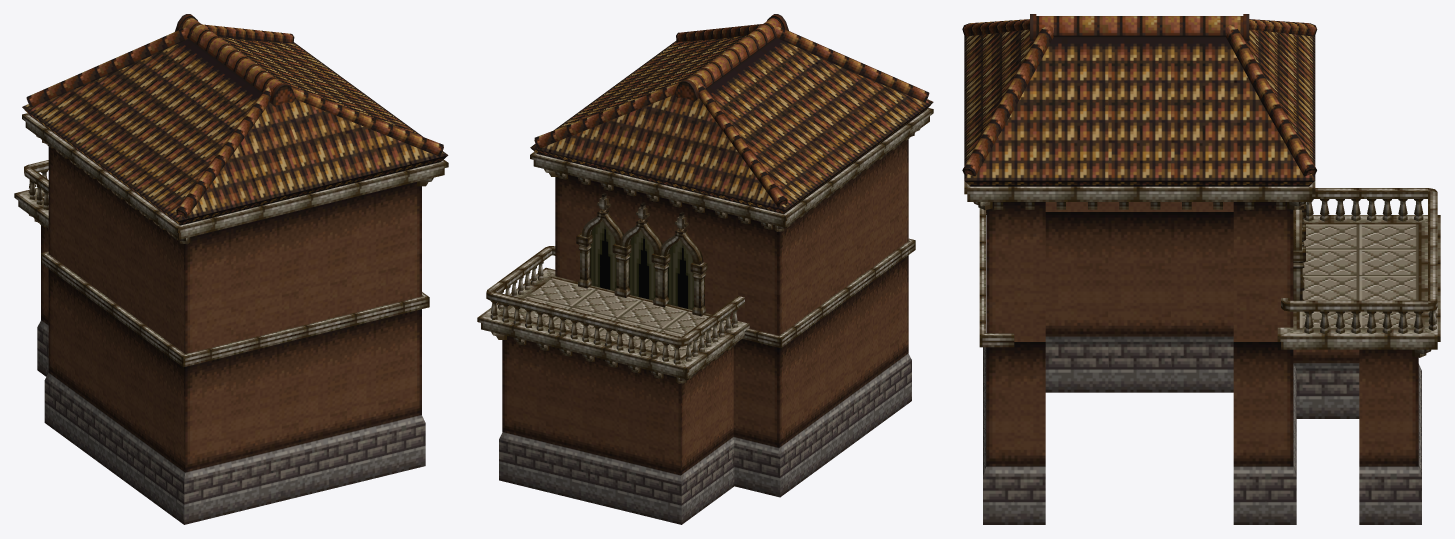
File: EnvBdgMD_Sea_A_Outdoor_House_E.FBX
The picture shows the model from 3 angles, left to right: view 1: azimuth 30°, elevation 25°; view 2: azimuth 150°, elevation 25°; view 3: azimuth 270°, elevation 25°; orthographic projection. The views are drawn at different scales.
Parts seen in each view (by area): view 1: EnvBdgMD_Sea_A_Outdoor_House_E; view 2: EnvBdgMD_Sea_A_Outdoor_House_E; view 3: EnvBdgMD_Sea_A_Outdoor_House_E.
Boxes of the visible parts, bbox=[...] form: EnvBdgMD_Sea_A_Outdoor_House_E: bbox=[14, 14, 448, 524]; EnvBdgMD_Sea_A_Outdoor_House_E: bbox=[477, 14, 933, 524]; EnvBdgMD_Sea_A_Outdoor_House_E: bbox=[962, 14, 1440, 524].
Bounding box in the file's own units: 560 × 781 × 763.
Materials: 2 (2 with a texture image).
